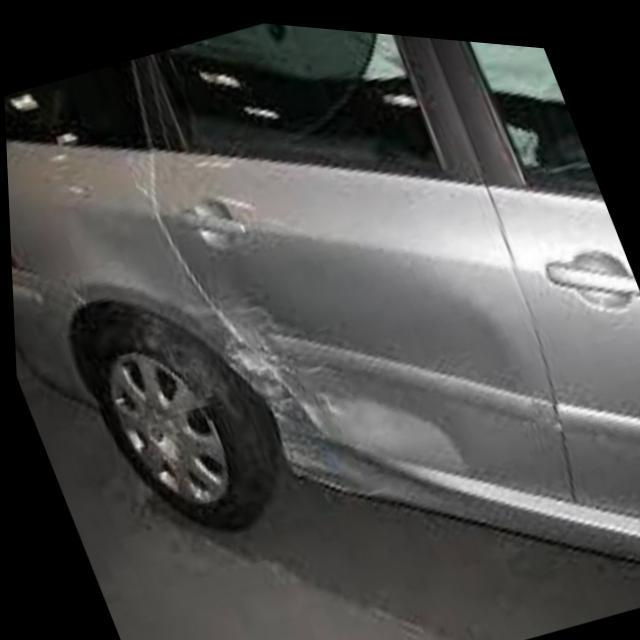dent: (170, 278, 360, 486), (420, 269, 532, 407), (335, 378, 468, 470)
